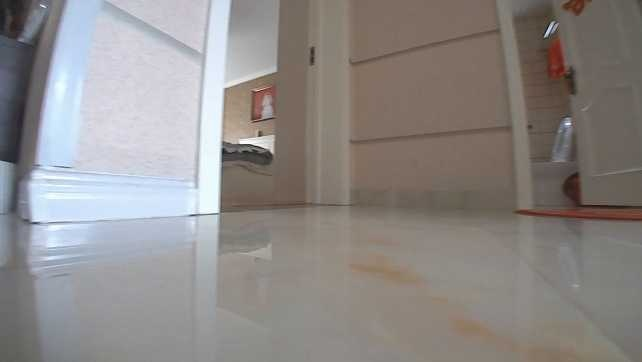bed: (222, 132, 274, 200)
blanket: (514, 206, 640, 220)
door_anno: (553, 1, 642, 208)
toilet: (531, 115, 578, 206)
